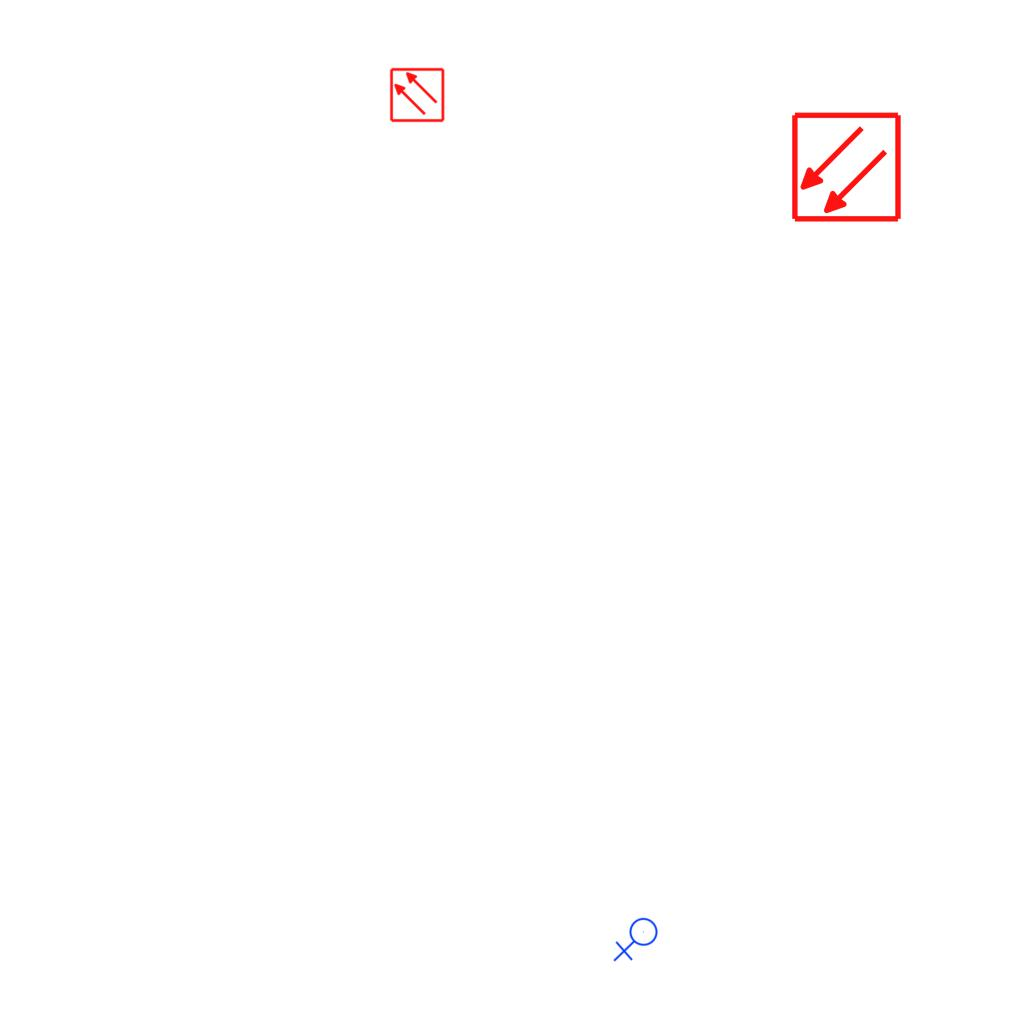Elektroanschluss_allgemein_230V_Geraeteanschlussdose_230V: (613, 917, 662, 964)
RMO_Rauchmelder_optischer: (790, 111, 903, 224), (389, 67, 445, 123)
